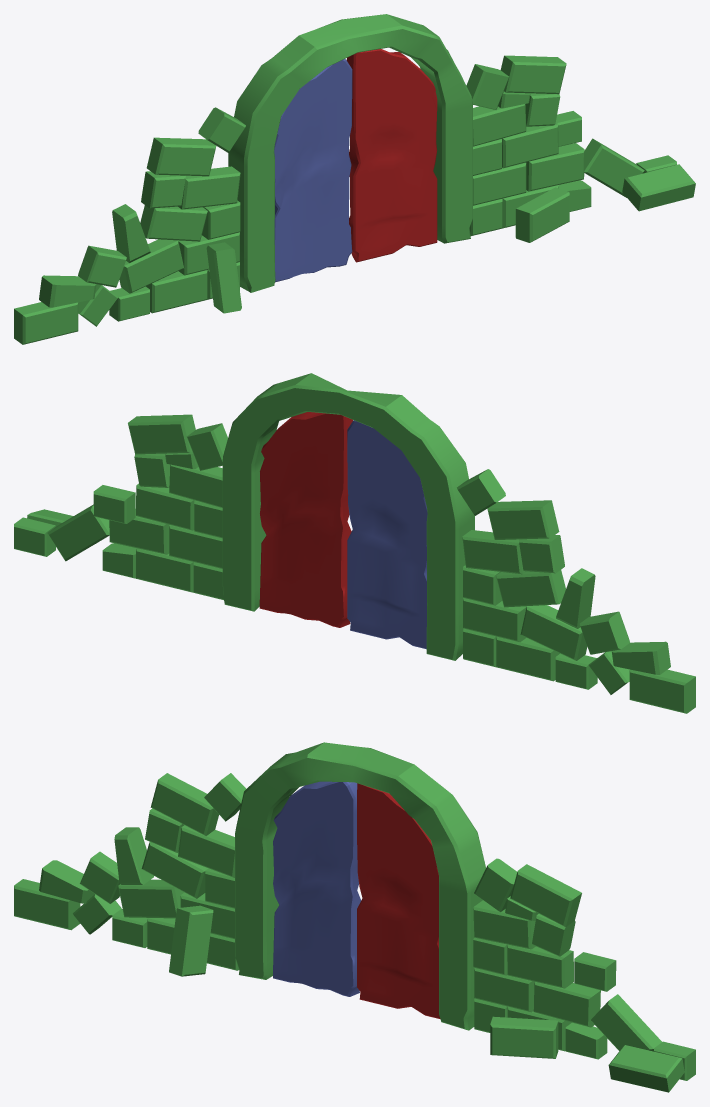
The model's file is door7_phong.fbx.
The picture shows the model from 3 angles, top to bottom: view 1: azimuth 30°, elevation 25°; view 2: azimuth 150°, elevation 25°; view 3: azimuth 330°, elevation 25°; orthographic projection. The views are drawn at different scales.
Visible parts, largest first — view 1: polySurface3, polySurface1, polySurface2; view 2: polySurface3, polySurface1, polySurface2; view 3: polySurface3, polySurface2, polySurface1.
Part boxes in pixels (x1,y1,x2,y2): polySurface3: (14,14,695,344); polySurface1: (346,49,437,262); polySurface2: (274,59,352,282); polySurface3: (14,373,695,713); polySurface1: (259,412,352,627); polySurface2: (347,420,427,649); polySurface3: (14,742,695,1092); polySurface2: (273,781,361,996); polySurface1: (357,783,440,1018).
Bounding box in the file's own units: 819 × 282 × 98.82.
